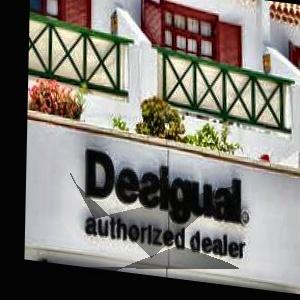desigual: (225, 79, 279, 252)
